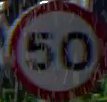Speed limit: (6, 1, 106, 99)
